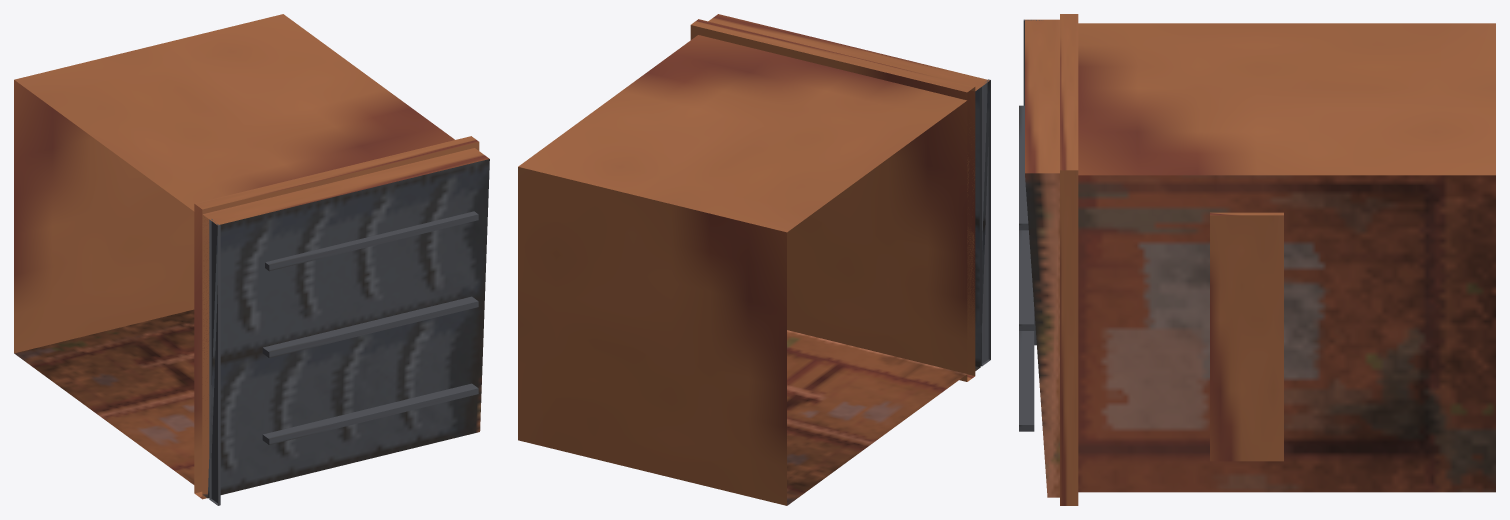
File: pz_g020_trashcontainers_01_orange_dumpster_part0.obj
3 views of the same model, side by side, from view 1: azimuth 30°, elevation 25°; view 2: azimuth 150°, elevation 25°; view 3: azimuth 270°, elevation 25° (orthographic). The views are drawn at different scales.
Parts seen in each view (by area): view 1: closed_lid_top, dumpster_body_front, dumpster_body_bottom, dumpster_body_rear, closed_lid_rear, lid_rib_top, lid_rib_front, upper_lip_top, upper_lip_bottom, upper_lip_front, lid_split_left, lid_split_top (+1 smaller); view 2: dumpster_body_bottom, dumpster_body_front, upper_lip_bottom, dumpster_body_rear, closed_lid_rear, closed_lid_bottom, upper_lip_front, closed_lid_top, lid_split_left, lid_split_top, lid_split_bottom, upper_lip_top; view 3: dumpster_body_left, dumpster_body_front, side_lift_bar_left, closed_lid_left, upper_lip_left, closed_lid_rear, lid_rib_front, upper_lip_front.
Part boxes in pixels (bbox=[...]): closed_lid_top: bbox=[207, 159, 489, 498]; dumpster_body_front: bbox=[14, 14, 454, 211]; dumpster_body_bottom: bbox=[14, 80, 194, 353]; dumpster_body_rear: bbox=[14, 309, 194, 484]; closed_lid_rear: bbox=[203, 148, 489, 225]; lid_rib_top: bbox=[269, 214, 478, 444]; lid_rib_front: bbox=[263, 211, 477, 439]; upper_lip_top: bbox=[202, 142, 479, 499]; upper_lip_bottom: bbox=[194, 204, 202, 493]; upper_lip_front: bbox=[195, 136, 478, 209]; lid_split_left: bbox=[211, 221, 217, 503]; lid_split_top: bbox=[218, 225, 220, 505]; dumpster_body_bottom: bbox=[518, 167, 786, 505]; dumpster_body_front: bbox=[518, 35, 966, 232]; upper_lip_bottom: bbox=[690, 25, 967, 381]; dumpster_body_rear: bbox=[787, 330, 966, 505]; closed_lid_rear: bbox=[708, 14, 989, 90]; closed_lid_bottom: bbox=[967, 90, 975, 371]; upper_lip_front: bbox=[691, 19, 974, 92]; closed_lid_top: bbox=[975, 81, 990, 367]; lid_split_left: bbox=[982, 82, 988, 363]; lid_split_top: bbox=[988, 80, 990, 359]; lid_split_bottom: bbox=[979, 87, 981, 366]; upper_lip_top: bbox=[967, 87, 975, 375]; dumpster_body_left: bbox=[1078, 175, 1495, 492]; dumpster_body_front: bbox=[1078, 23, 1495, 175]; side_lift_bar_left: bbox=[1210, 215, 1283, 461]; closed_lid_left: bbox=[1025, 173, 1059, 497]; upper_lip_left: bbox=[1060, 170, 1078, 505]; closed_lid_rear: bbox=[1025, 19, 1059, 173]; lid_rib_front: bbox=[1019, 105, 1034, 424]; upper_lip_front: bbox=[1060, 14, 1078, 170].
Size of the model in its own units: 0.9 by 0.9 by 1.16.
Materials: 1 (1 with a texture image).
